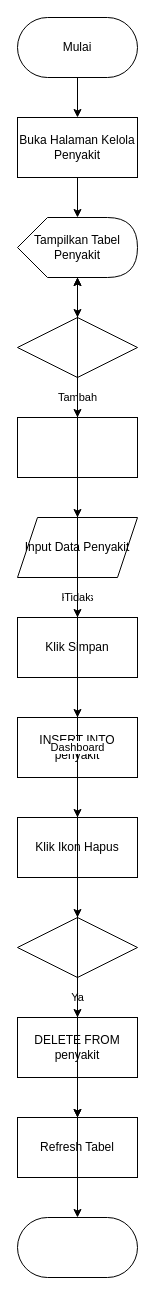
Image size: 155x1295. Some labels were removed from this diagram. The box of each missing label's shape, as (x1, y1, x2, y2) in pixels:
Klik Tombol Tambah: (16, 416, 138, 478)
Konfirmasi Hapus?: (16, 916, 138, 978)
Pilih Aksi: (16, 316, 138, 378)
Selesai: (16, 1216, 138, 1278)
